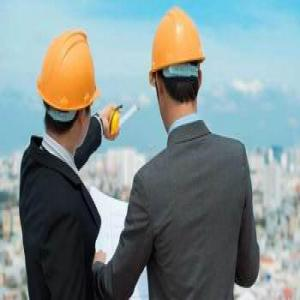yellow: (34, 25, 99, 155), (149, 5, 209, 127)
